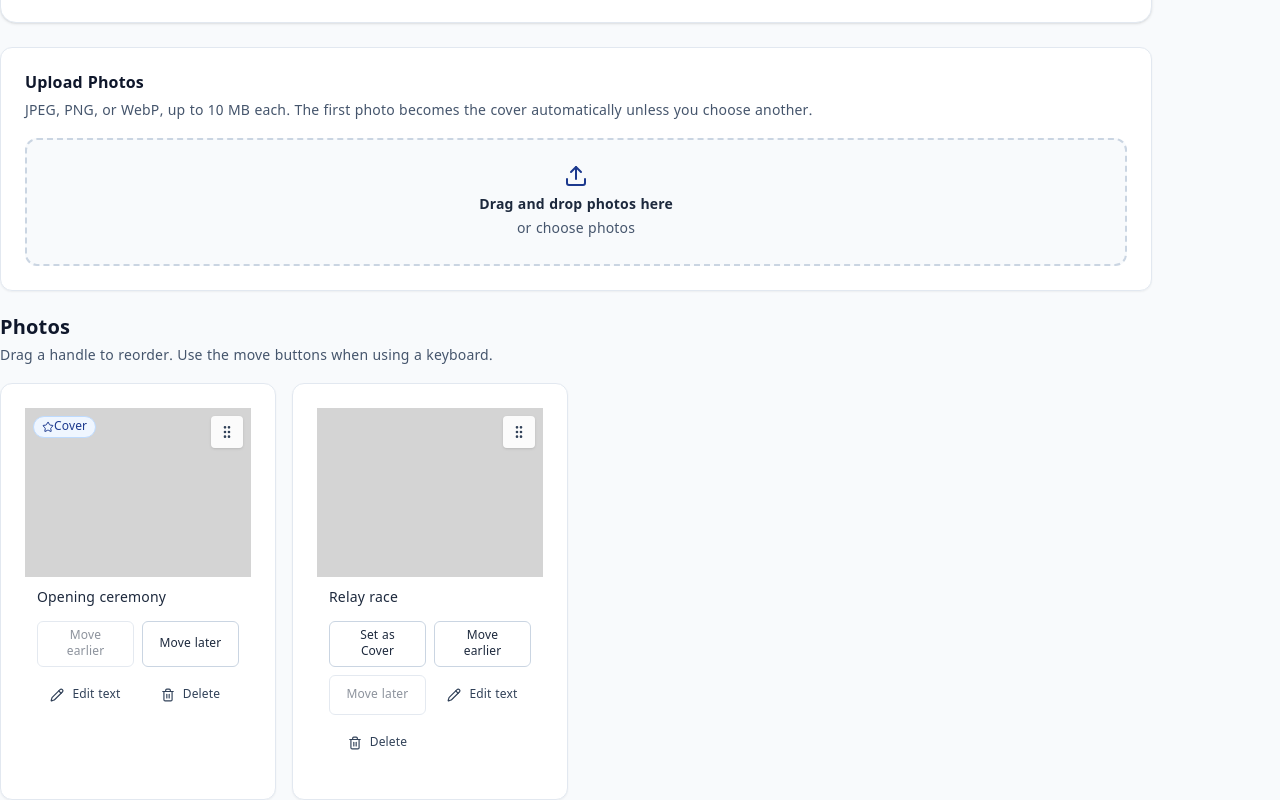
Scenario: AdminGalleryAlbumPage › asks for confirmation before deleting a photo
(page scrolled)
What coordinates should you click on to do the following:
click the button "Delete" below "Opening ceremony"
I would click on:
 (190, 695)
Its box is [142,675,239,715].
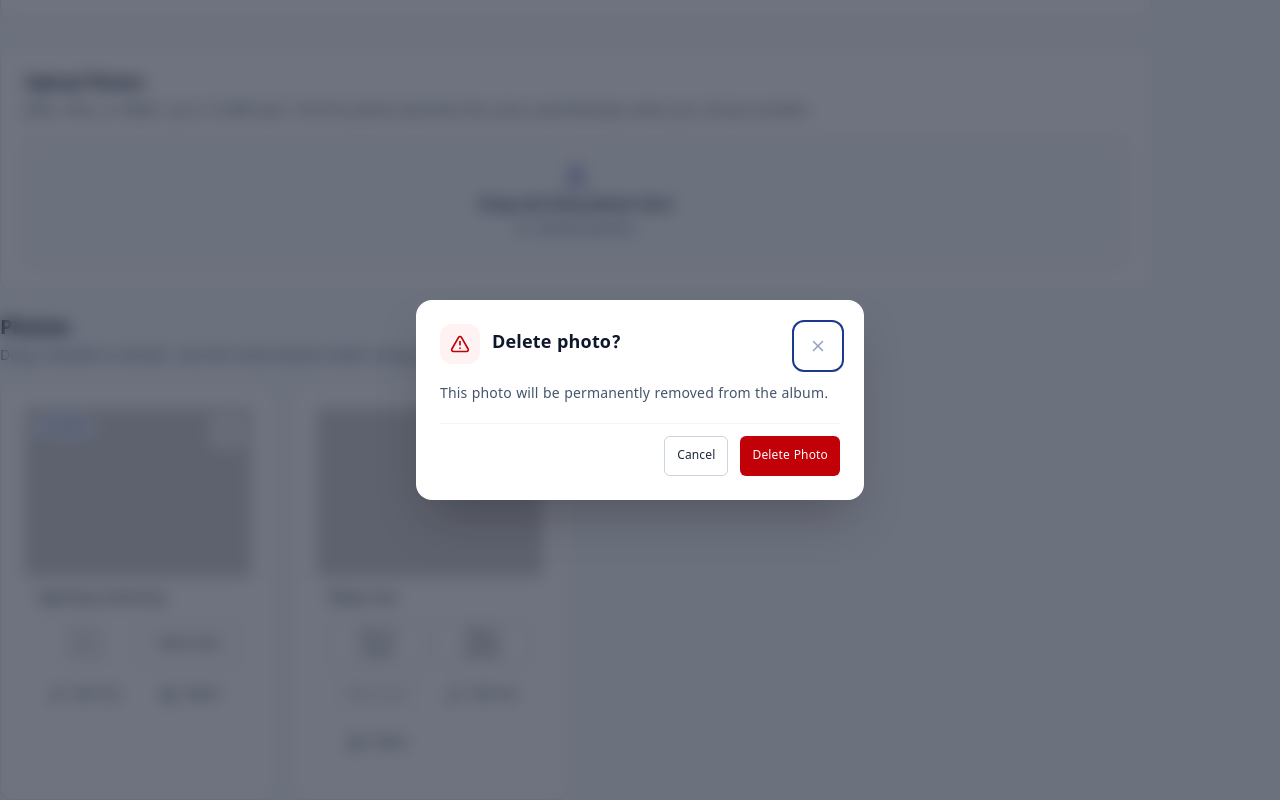
expect the dialog "Delete photo" is shown: met
expect the text "This photo will be permanently removed from the album." is shown: met, box [440,384,840,407]
